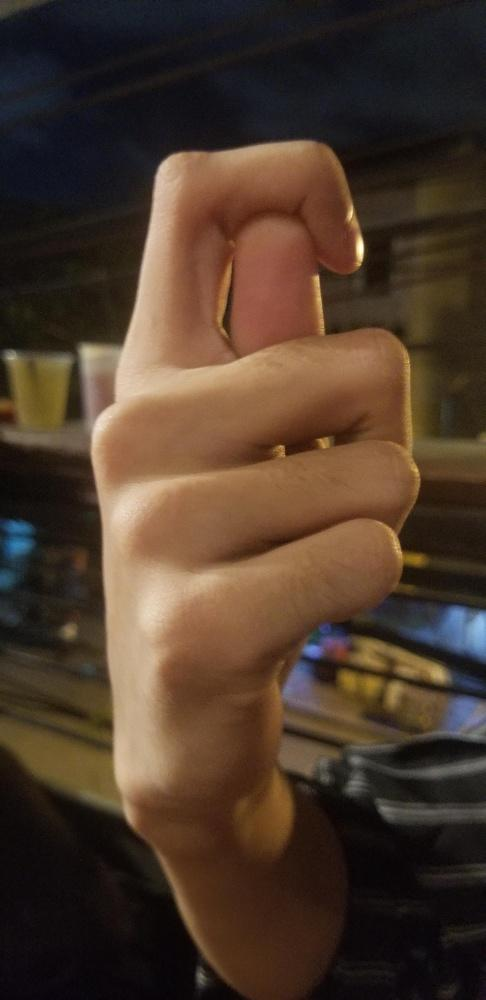t: (87, 133, 420, 818)
